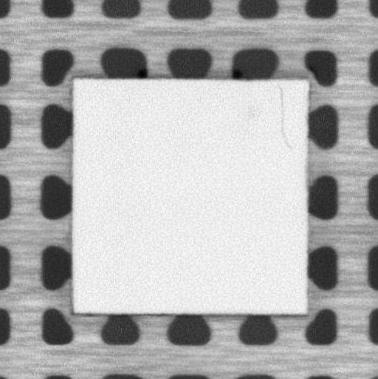DIE_CRACK: (277, 86, 293, 150)
